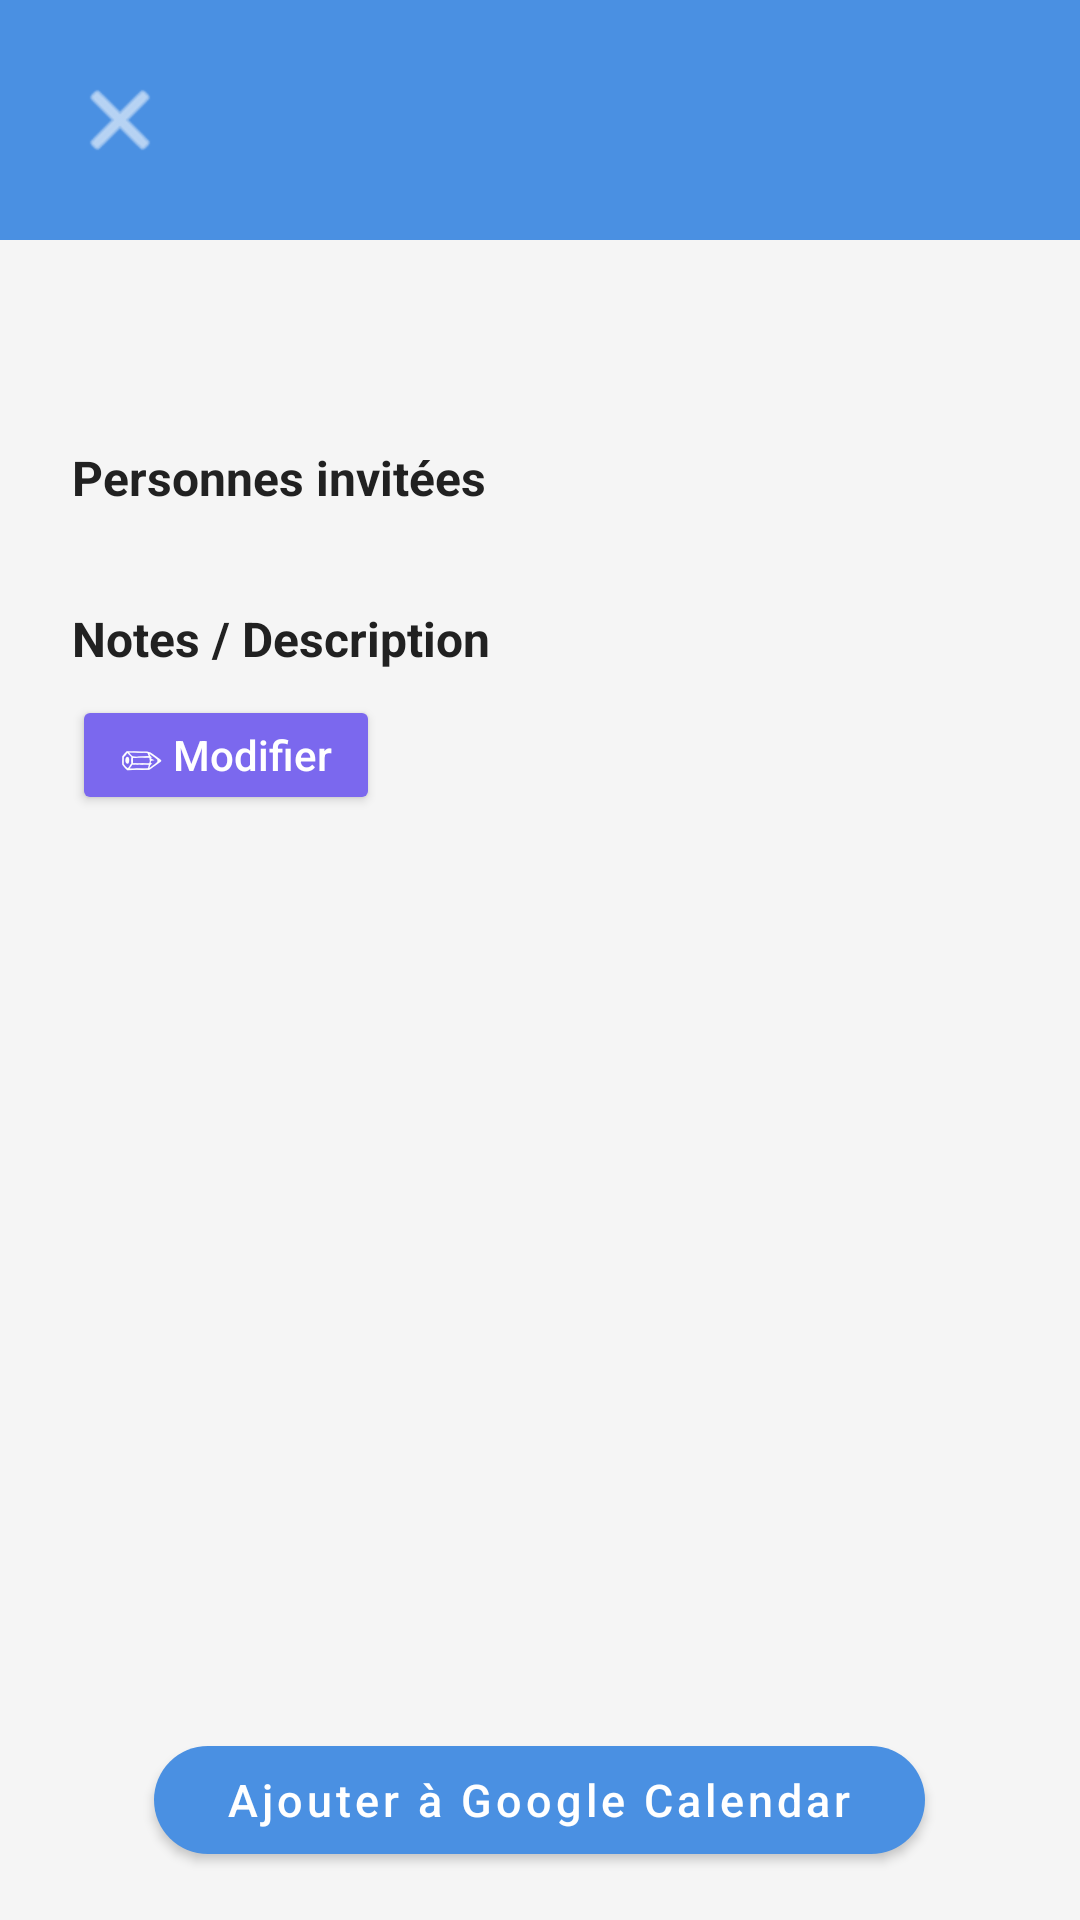

Point at icon controls on the screen. Image size 1080 x 1920, points as point (x, y).
Retour: point (120, 120)
